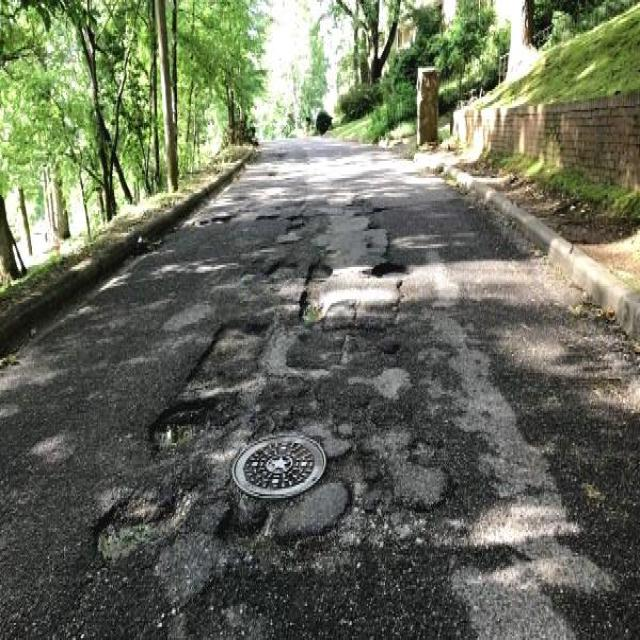pothole: (230, 430, 326, 502), (190, 320, 272, 392), (147, 400, 214, 460), (214, 490, 262, 568), (93, 493, 136, 575), (299, 256, 334, 324), (364, 254, 407, 282), (268, 256, 294, 290), (285, 210, 307, 237), (198, 211, 230, 226), (256, 210, 278, 226)
